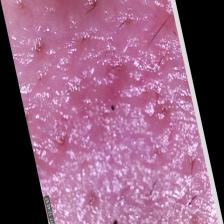Oily: (4, 0, 218, 224)
